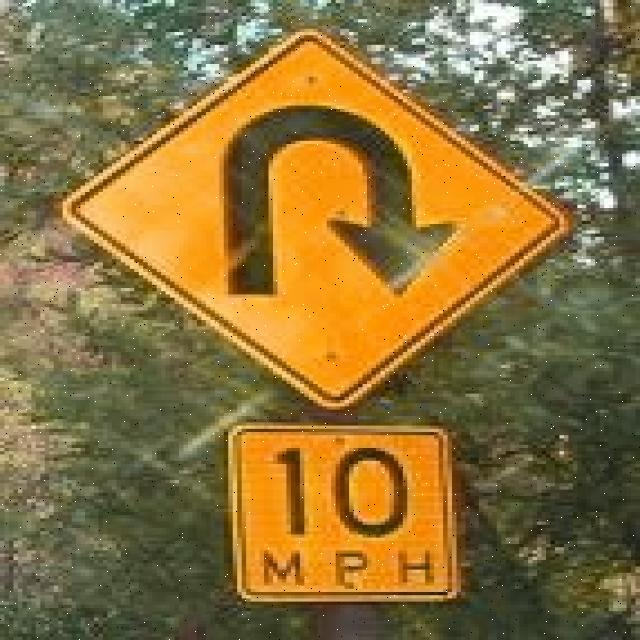Uturn: (61, 33, 562, 405)
